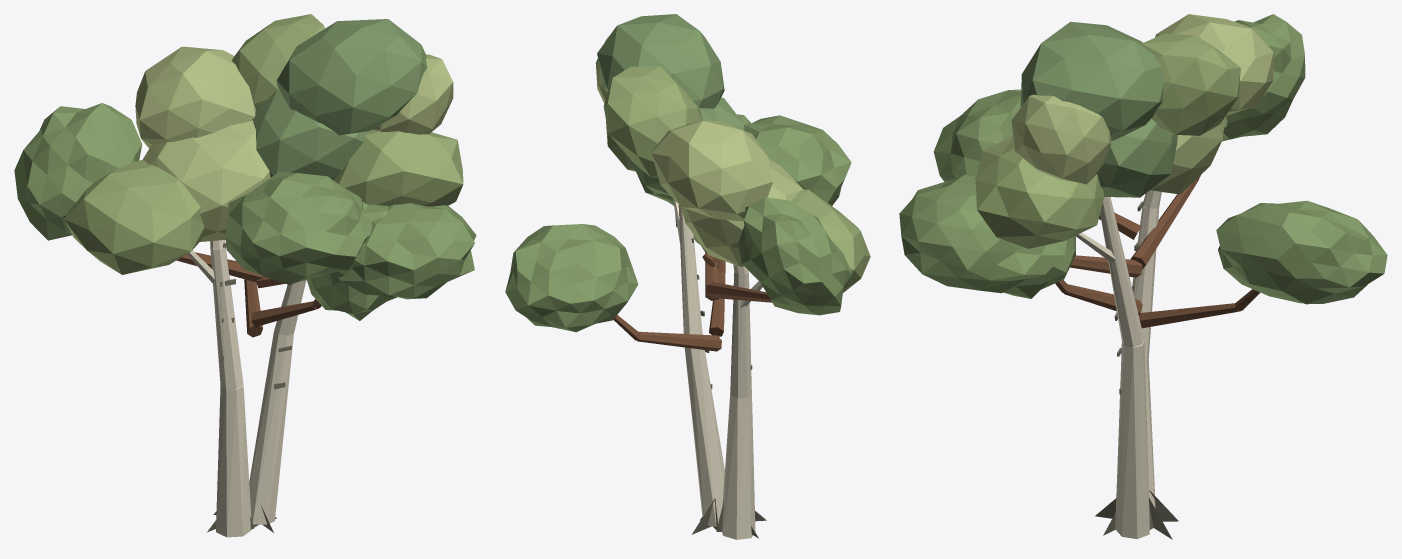
The model's file is birch_2.glb.
3 renders of one model, left to right at view 1: azimuth 30°, elevation 25°; view 2: azimuth 150°, elevation 25°; view 3: azimuth 270°, elevation 25°, orthographic. The views are drawn at different scales.
Parts seen in each view (by area): view 1: foliage-0, foliage-2, foliage-1, surface; view 2: foliage-2, foliage-0, surface, foliage-1; view 3: foliage-2, foliage-1, foliage-0, surface.
Boxes of the visible parts, box(x1,y1,x2,y2) form: foliage-0: box(14, 14, 463, 320); foliage-2: box(225, 19, 427, 284); foliage-1: box(135, 46, 476, 299); surface: box(176, 240, 321, 537); foliage-2: box(505, 14, 851, 332); foliage-0: box(603, 66, 870, 315); surface: box(613, 198, 771, 539); foliage-1: box(595, 34, 803, 266); foliage-2: box(933, 21, 1387, 304); foliage-1: box(899, 14, 1273, 293); foliage-0: box(975, 14, 1305, 298); surface: box(1055, 175, 1260, 539).
Size of the model in its own units: 5.28 by 7.3 by 5.9.
